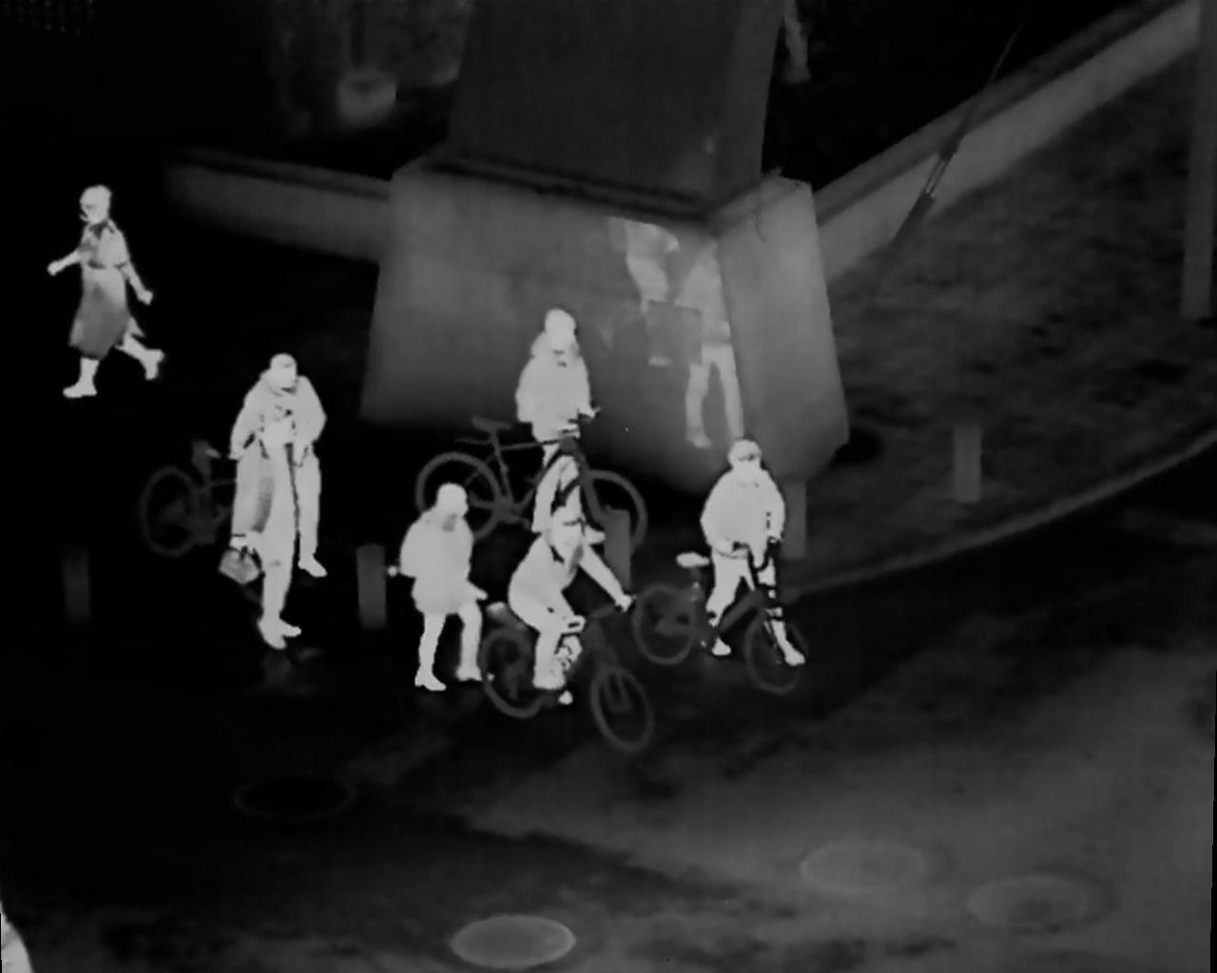person: (218, 355, 338, 647), (704, 436, 816, 664), (41, 186, 154, 403), (513, 510, 631, 703), (507, 307, 609, 527), (393, 482, 492, 695)
